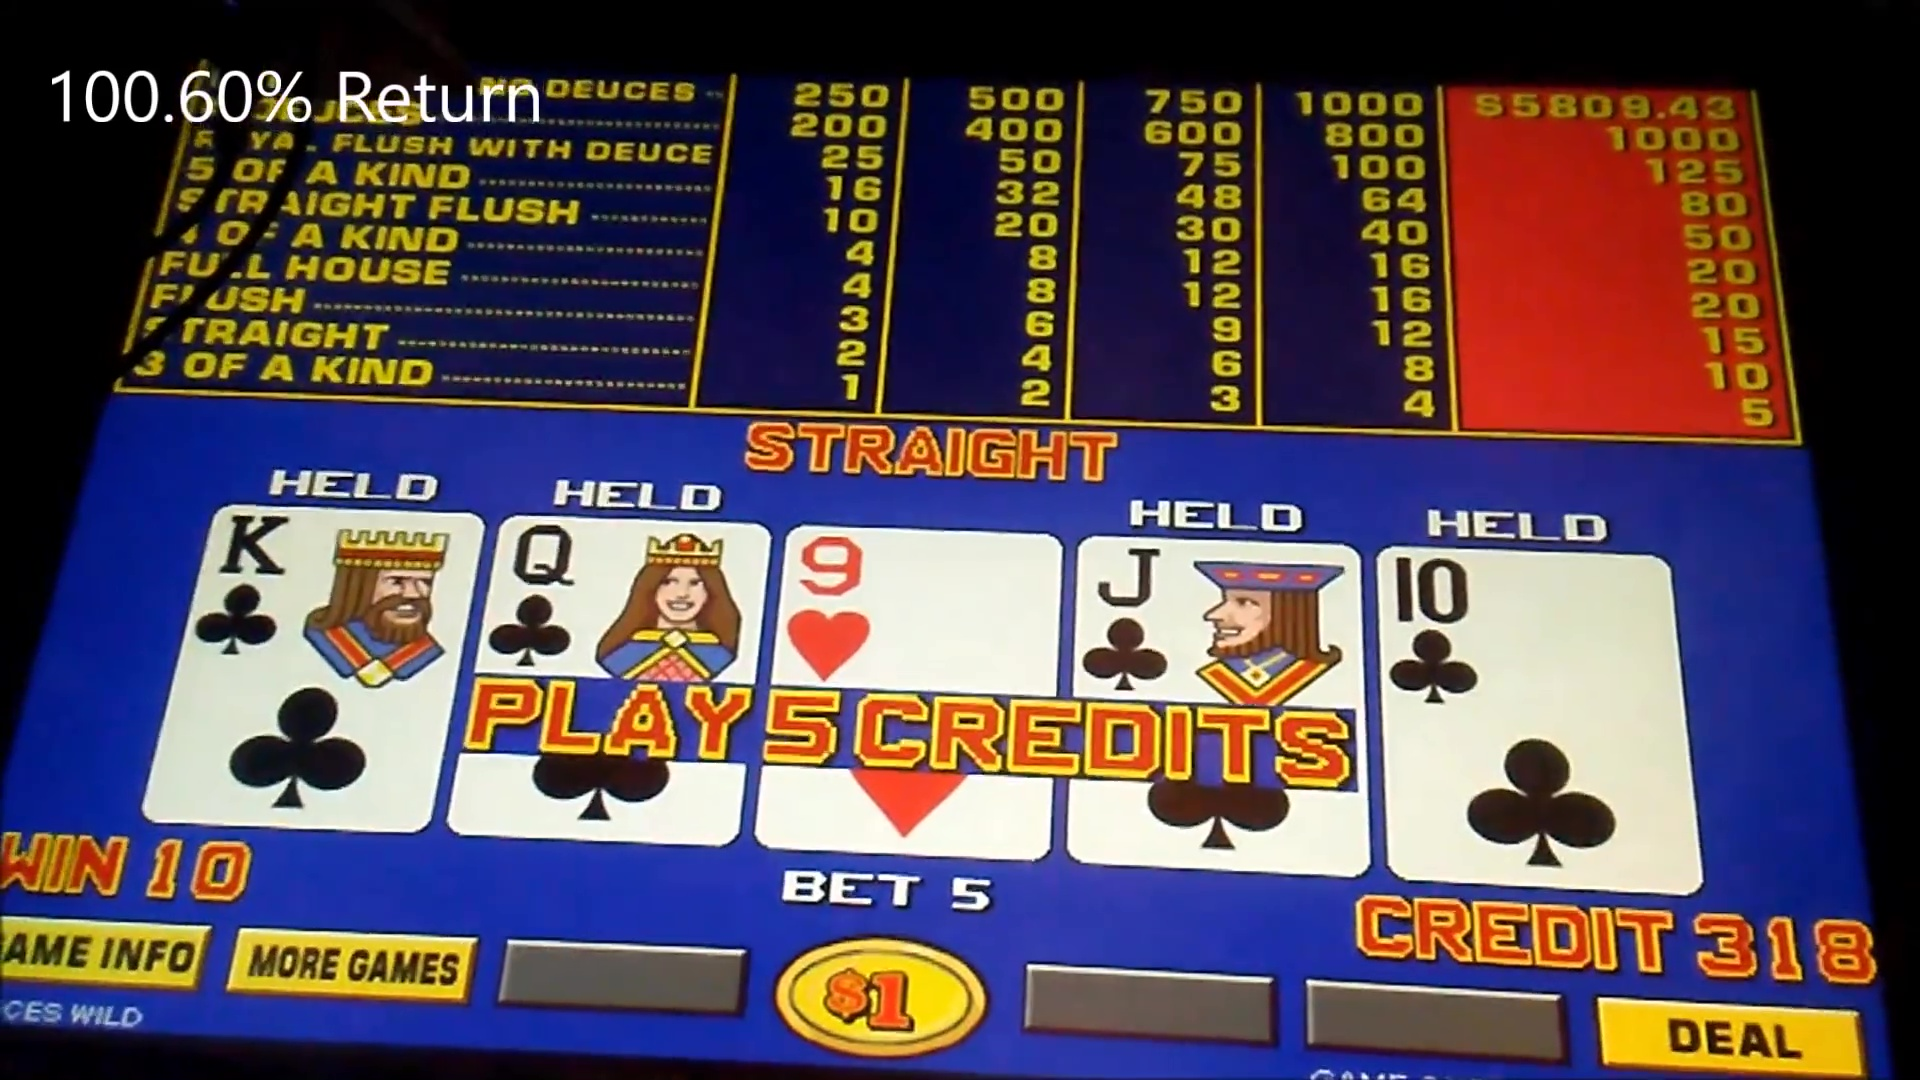CJ: (1081, 541, 1356, 695)
CK: (199, 509, 464, 676)
CQ: (502, 520, 741, 673)
CT: (1379, 560, 1665, 715)
H9: (787, 526, 1046, 684)
